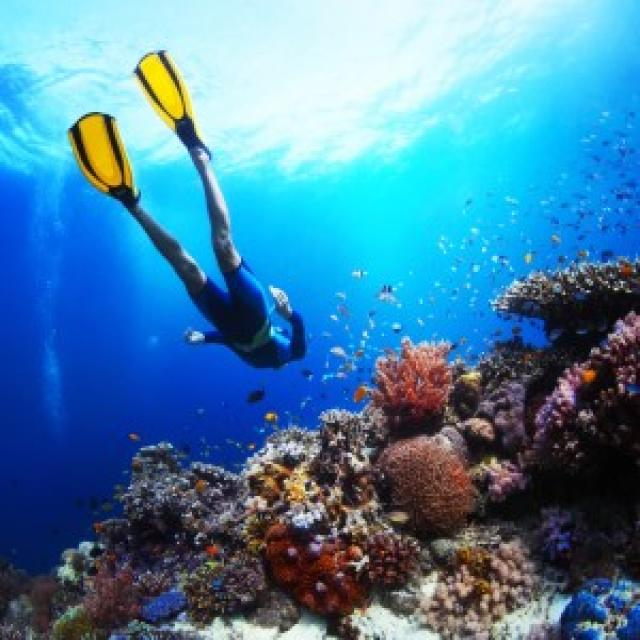Healthy: (530, 314, 639, 474), (103, 444, 238, 566), (440, 342, 573, 463), (421, 540, 536, 639), (50, 556, 187, 639), (291, 415, 381, 534), (266, 524, 370, 618), (381, 438, 475, 538), (494, 259, 639, 319), (246, 431, 319, 524), (372, 342, 451, 424), (184, 552, 268, 620), (560, 579, 639, 639), (362, 531, 421, 591), (330, 424, 357, 508), (479, 460, 526, 499)
